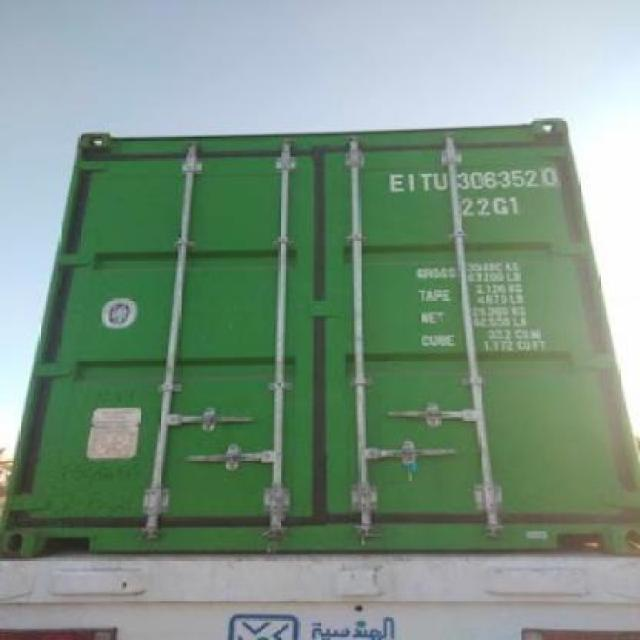ISO: (462, 194, 520, 218)
container_number: (390, 168, 560, 191)
